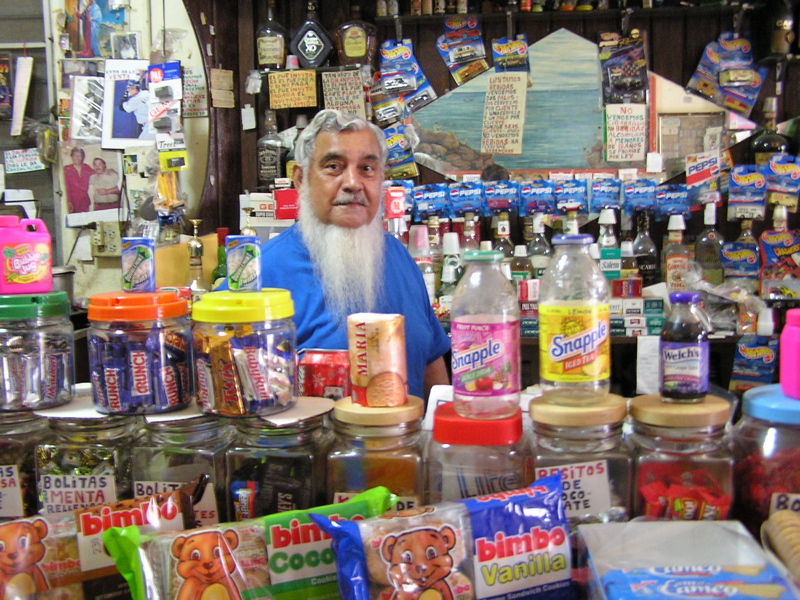Age_above_50: (309, 116, 400, 243)
E_White: (309, 116, 400, 243)
G_Male: (309, 116, 400, 243)
Not_Face: (309, 116, 400, 243)
